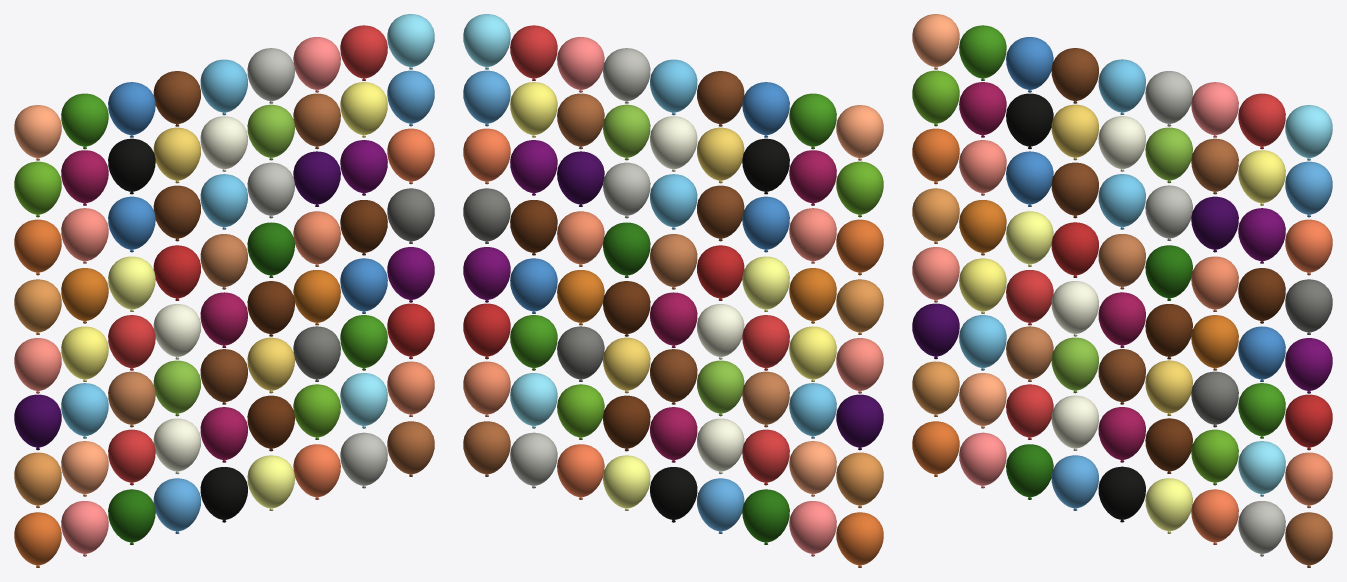
File: Стена из шариков.fbx
3 views of the same model, side by side, from view 1: azimuth 30°, elevation 25°; view 2: azimuth 150°, elevation 25°; view 3: azimuth 330°, elevation 25° (orthographic).
Visible parts, largest first — view 1: Sphere_1, Cone_0; view 2: Sphere_1, Cone_0; view 3: Sphere_1, Cone_0.
Boxes of the visible parts, box(x1,y1,x2,y2) form: Sphere_1: box(14, 14, 434, 565); Cone_0: box(36, 67, 412, 567); Sphere_1: box(463, 14, 883, 565); Cone_0: box(485, 67, 861, 567); Sphere_1: box(912, 14, 1332, 565); Cone_0: box(934, 67, 1310, 567).
Size of the model in its own units: 1942 by 2060 by 194.
